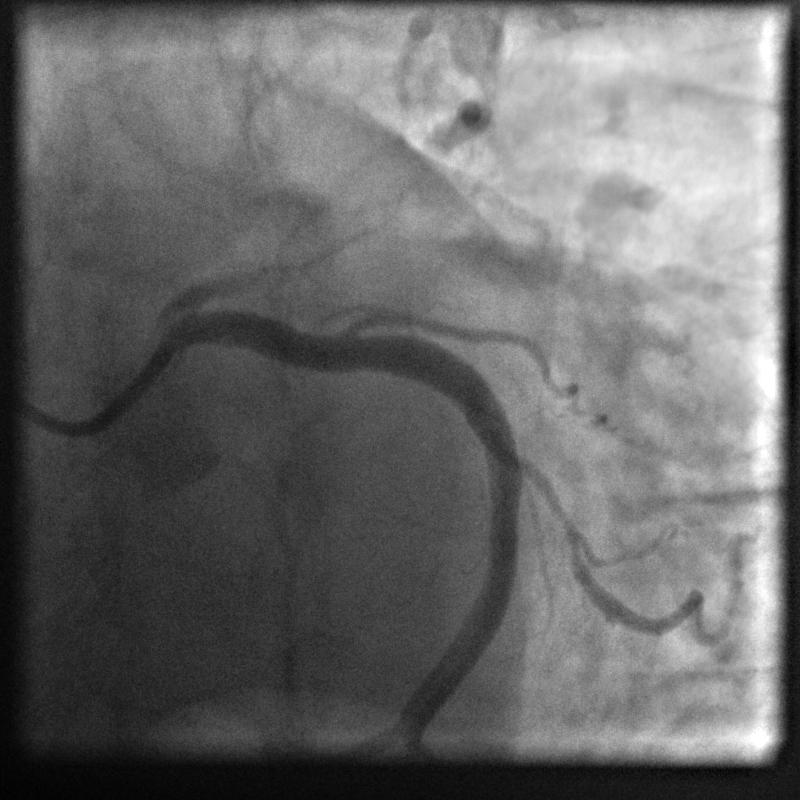Stenosis: (508, 435, 597, 586)
